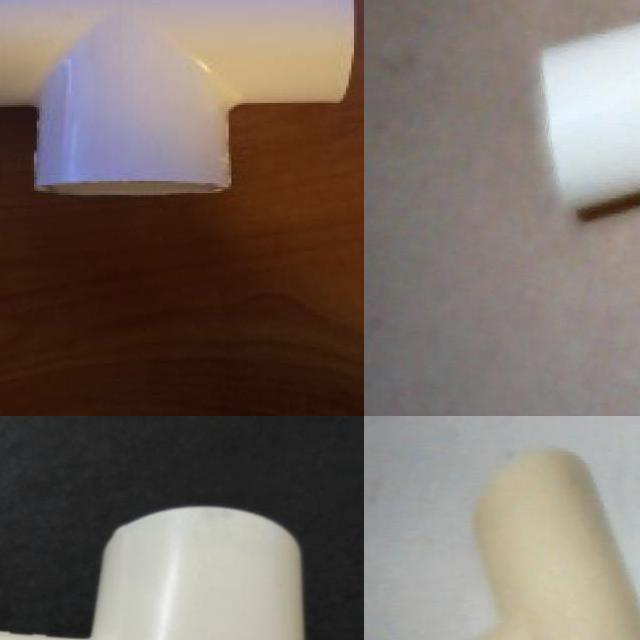T Joint: (0, 506, 305, 640), (538, 21, 640, 223)
